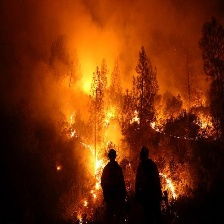fire: (66, 114, 106, 214), (159, 171, 183, 197), (78, 77, 97, 95), (132, 108, 141, 126), (147, 121, 161, 132)
smoke: (3, 3, 212, 105)
